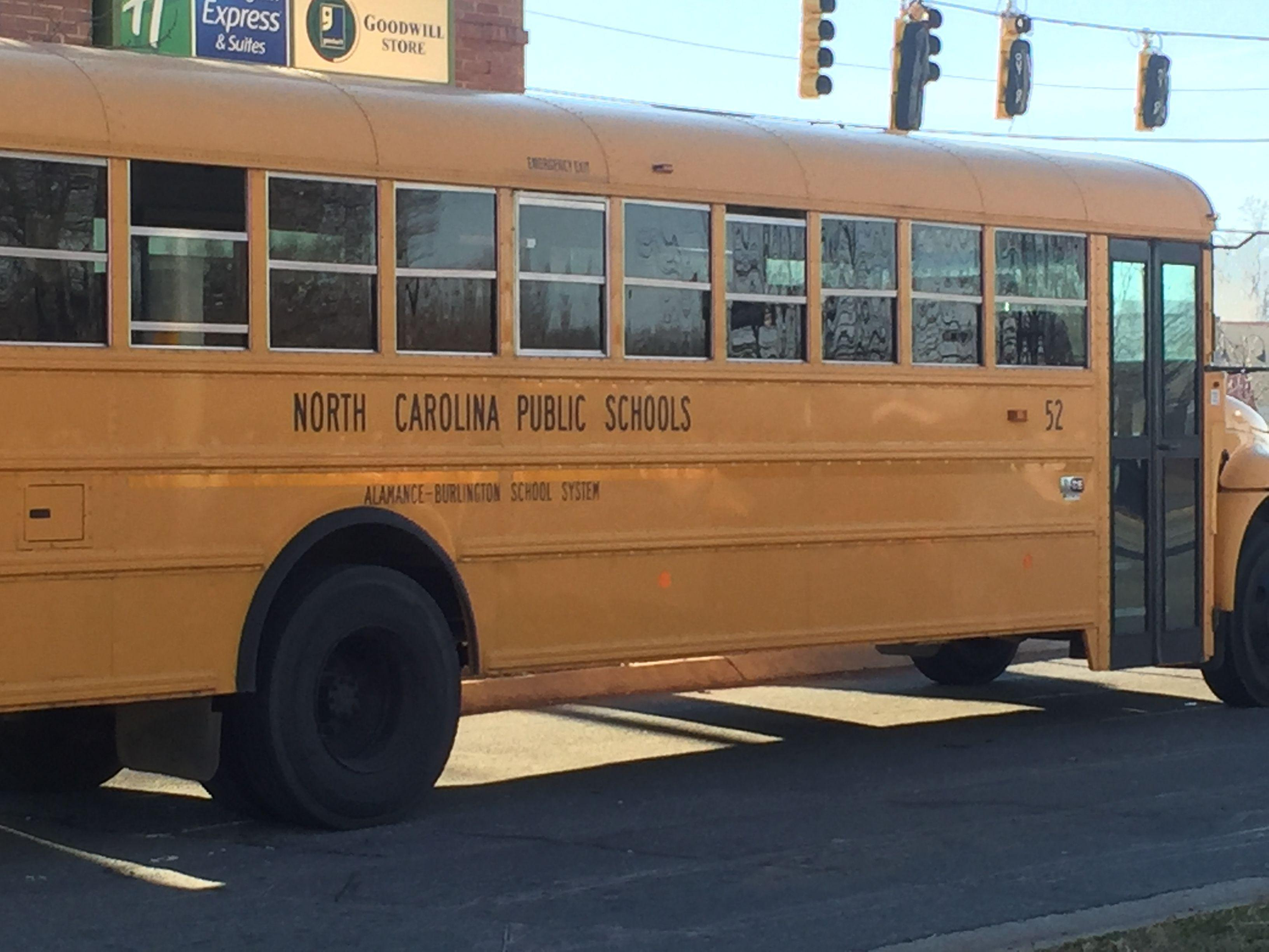Bus: (0, 49, 1269, 830)
